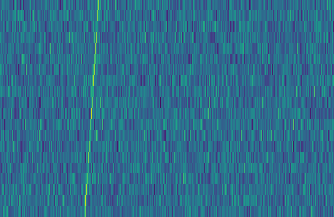signal: (78, 0, 101, 217)
